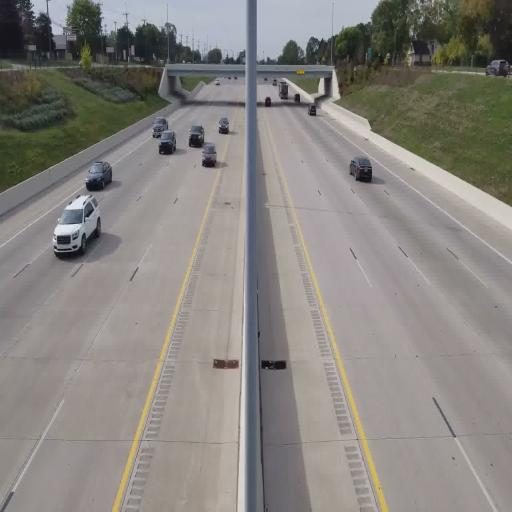Car: (52, 194, 102, 258), (86, 160, 112, 191), (350, 156, 372, 182), (486, 59, 511, 77), (158, 129, 176, 154), (188, 123, 205, 147), (152, 118, 166, 138), (218, 116, 230, 134)
Truck: (201, 142, 217, 168)
